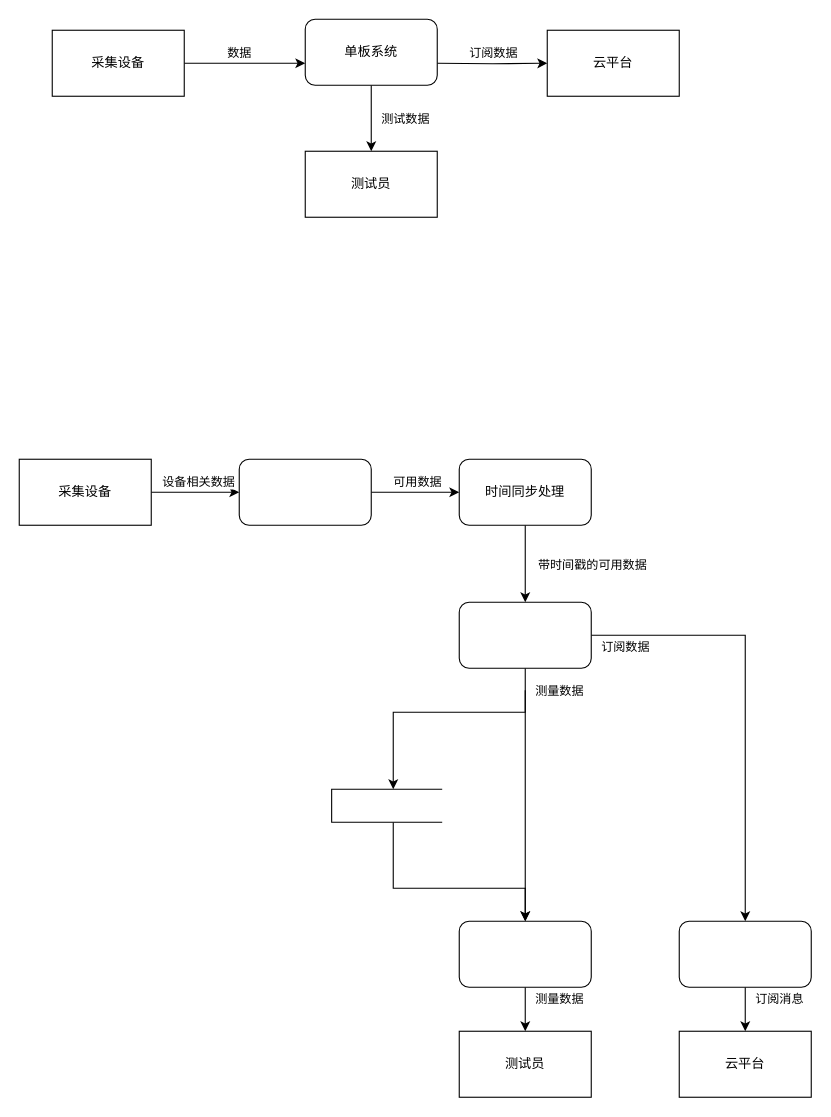
The diagram is 831 pixels wide and 1117 high, and some of its shapes have lost their labels. Here are the shapes that lost their labels. From the top down, the centre of each, then its label:
At (304,491): "应用协议转换".
At (524,634): "数据处理".
At (524,953): "测量数据监测和管理".
At (744,953): "IoT服务".
